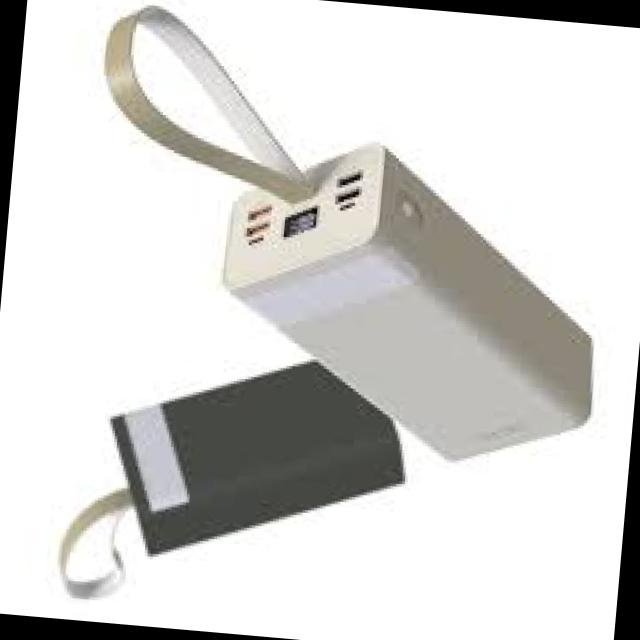portable-charger: (200, 131, 614, 480), (98, 337, 417, 580)
